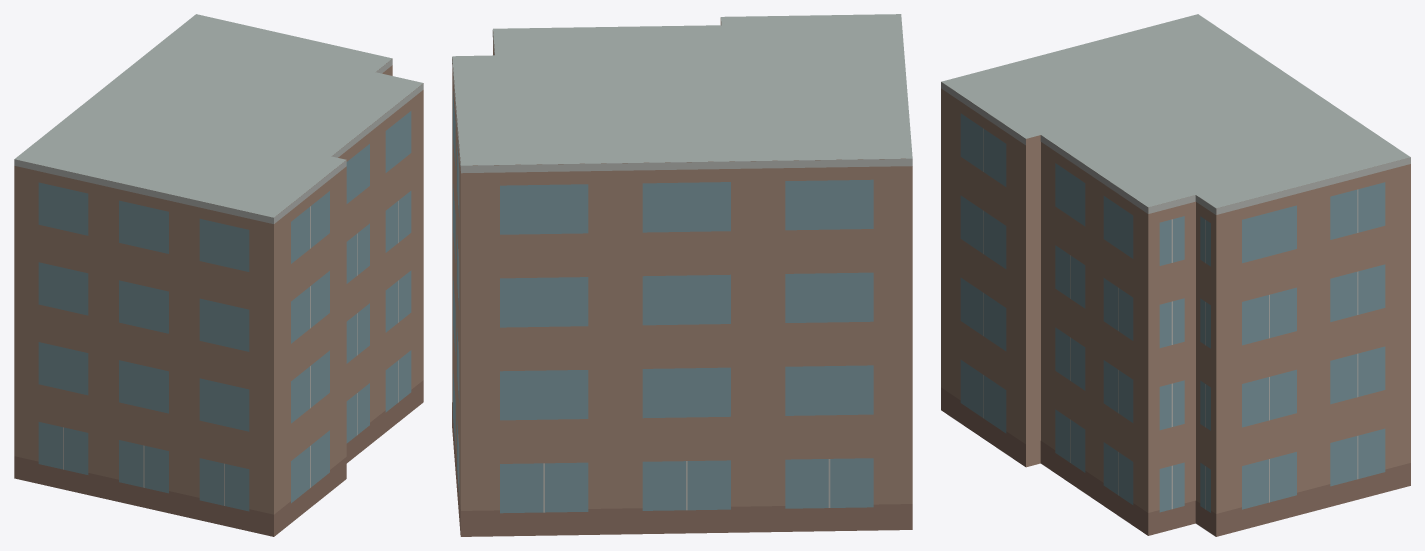
The model's file is survey-upis-32826903.glb.
The picture shows the model from 3 angles, left to right: view 1: azimuth 30°, elevation 25°; view 2: azimuth 150°, elevation 25°; view 3: azimuth 270°, elevation 25°; orthographic projection. The views are drawn at different scales.
Visible parts, largest first — view 1: survey-upis-32826903.tmp; view 2: survey-upis-32826903.tmp; view 3: survey-upis-32826903.tmp.
Boxes of the visible parts, x1,y1,x2,y2 form: survey-upis-32826903.tmp: [14, 14, 423, 536]; survey-upis-32826903.tmp: [452, 14, 912, 536]; survey-upis-32826903.tmp: [941, 14, 1410, 536].
Bounding box in the file's own units: 15.24 × 12 × 15.56.
